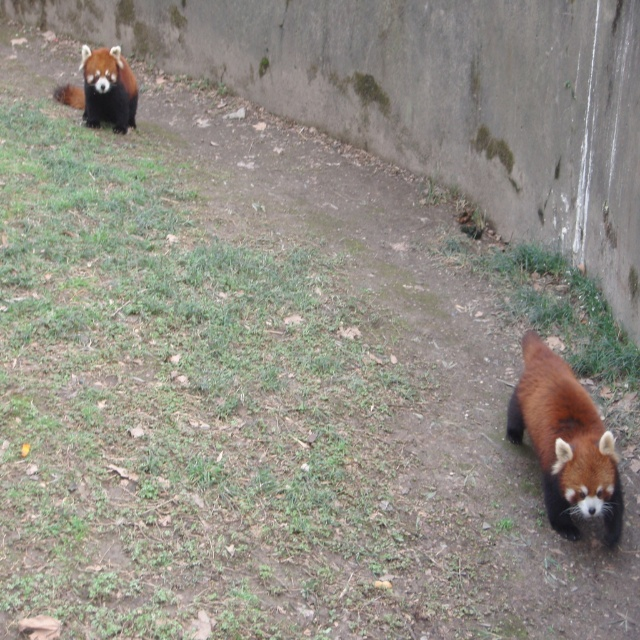Red panda: (506, 329, 625, 550), (53, 45, 139, 134)
